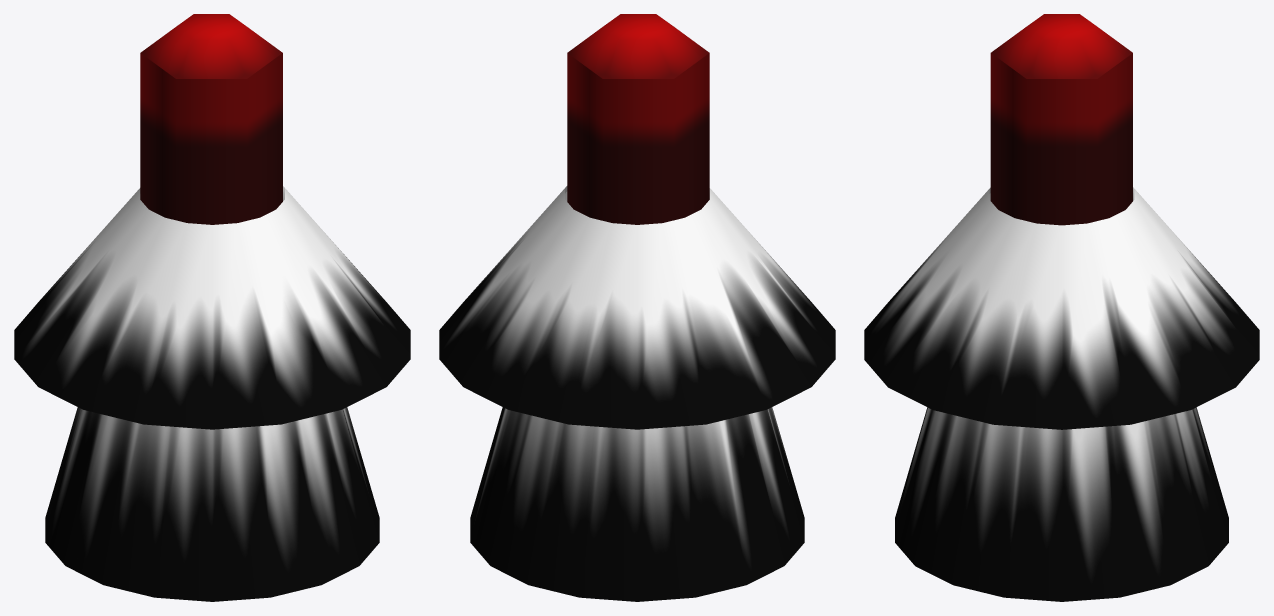
Rendered from missile2.FBX.
The picture shows the model from 3 angles, left to right: view 1: azimuth 30°, elevation 25°; view 2: azimuth 150°, elevation 25°; view 3: azimuth 270°, elevation 25°; orthographic projection.
Visible parts, largest first — view 1: Cylinder007, Cylinder008, Cylinder006; view 2: Cylinder007, Cylinder008, Cylinder006; view 3: Cylinder007, Cylinder008, Cylinder006.
Part boxes in pixels (x1,y1,x2,y2): Cylinder007: [14, 186, 410, 429]; Cylinder008: [45, 192, 379, 601]; Cylinder006: [140, 14, 282, 224]; Cylinder007: [439, 186, 835, 429]; Cylinder008: [470, 191, 804, 601]; Cylinder006: [567, 14, 709, 224]; Cylinder007: [864, 187, 1259, 429]; Cylinder008: [895, 193, 1228, 601]; Cylinder006: [990, 14, 1132, 225].
Size of the model in its own units: 7.68 by 10.61 by 7.57.
